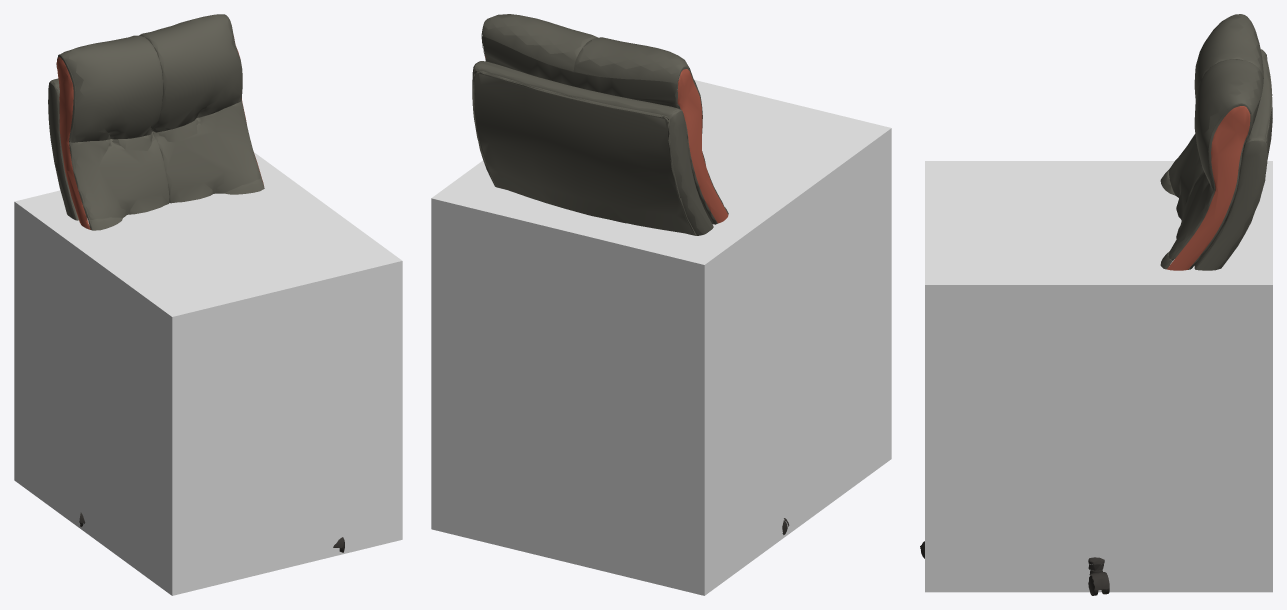
Rendered from 80311525_Кресло_рабочее_Boss_II.glb.
3 renders of one model, left to right at view 1: azimuth 30°, elevation 25°; view 2: azimuth 150°, elevation 25°; view 3: azimuth 270°, elevation 25°, orthographic. The views are drawn at different scales.
Parts seen in each view (by area): view 1: Box001, leather_tex_sidenie, leather_tex_sidenie_in, leather_tex_spinka, seam_1_hoff_marvin_modul_01; view 2: Box001, leather_tex_spinka, leather_tex_sidenie, leather_tex_sidenie_in, seam_1_hoff_marvin_modul_01; view 3: Box001, leather_tex_sidenie, leather_tex_spinka, leather_tex_sidenie_in, plastic_nojki_2, seam_1_hoff_marvin_modul_01.
Part boxes in pixels (left/top/right/bottom): Box001: left=14, top=152, right=402, bottom=595; leather_tex_sidenie: left=56, top=14, right=264, bottom=230; leather_tex_sidenie_in: left=56, top=37, right=263, bottom=229; leather_tex_spinka: left=48, top=78, right=78, bottom=220; seam_1_hoff_marvin_modul_01: left=50, top=19, right=264, bottom=230; Box001: left=431, top=80, right=891, bottom=595; leather_tex_spinka: left=472, top=61, right=713, bottom=235; leather_tex_sidenie: left=482, top=14, right=728, bottom=224; leather_tex_sidenie_in: left=485, top=56, right=728, bottom=223; seam_1_hoff_marvin_modul_01: left=474, top=21, right=715, bottom=235; Box001: left=925, top=161, right=1272, bottom=592; leather_tex_sidenie: left=1160, top=14, right=1263, bottom=269; leather_tex_spinka: left=1194, top=49, right=1272, bottom=270; leather_tex_sidenie_in: left=1167, top=106, right=1250, bottom=270; plastic_nojki_2: left=920, top=541, right=1109, bottom=595; seam_1_hoff_marvin_modul_01: left=1163, top=94, right=1272, bottom=269.
Size of the model in its own units: 0.6898 by 1.15 by 0.7739.
